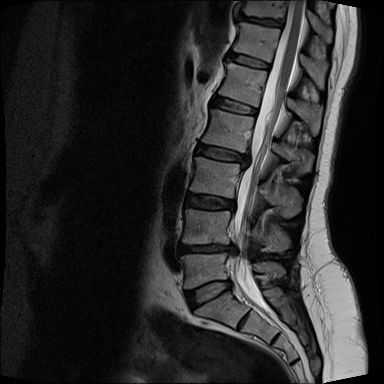Degenerative Disc Disease (DDD): (171, 239, 242, 259), (234, 12, 289, 32)
Lumbar Disc Bulge (LDB): (181, 274, 237, 318), (190, 139, 255, 171), (180, 188, 240, 216)
Normal IVD: (203, 87, 262, 119), (224, 48, 274, 72)
Spinal Stenosis (SS): (238, 145, 257, 174), (223, 237, 243, 261), (225, 194, 241, 217), (275, 12, 290, 34), (220, 275, 237, 294)
